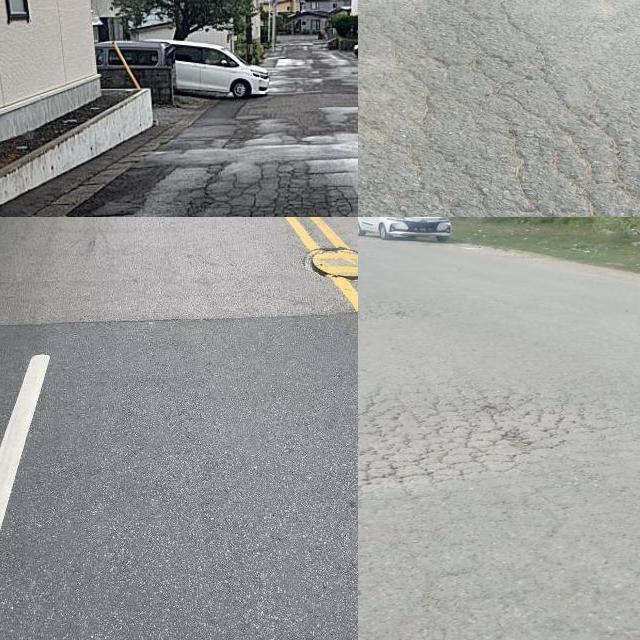Retak Buaya: (362, 0, 640, 217), (358, 377, 607, 505)
Sambungan: (0, 314, 358, 640)
